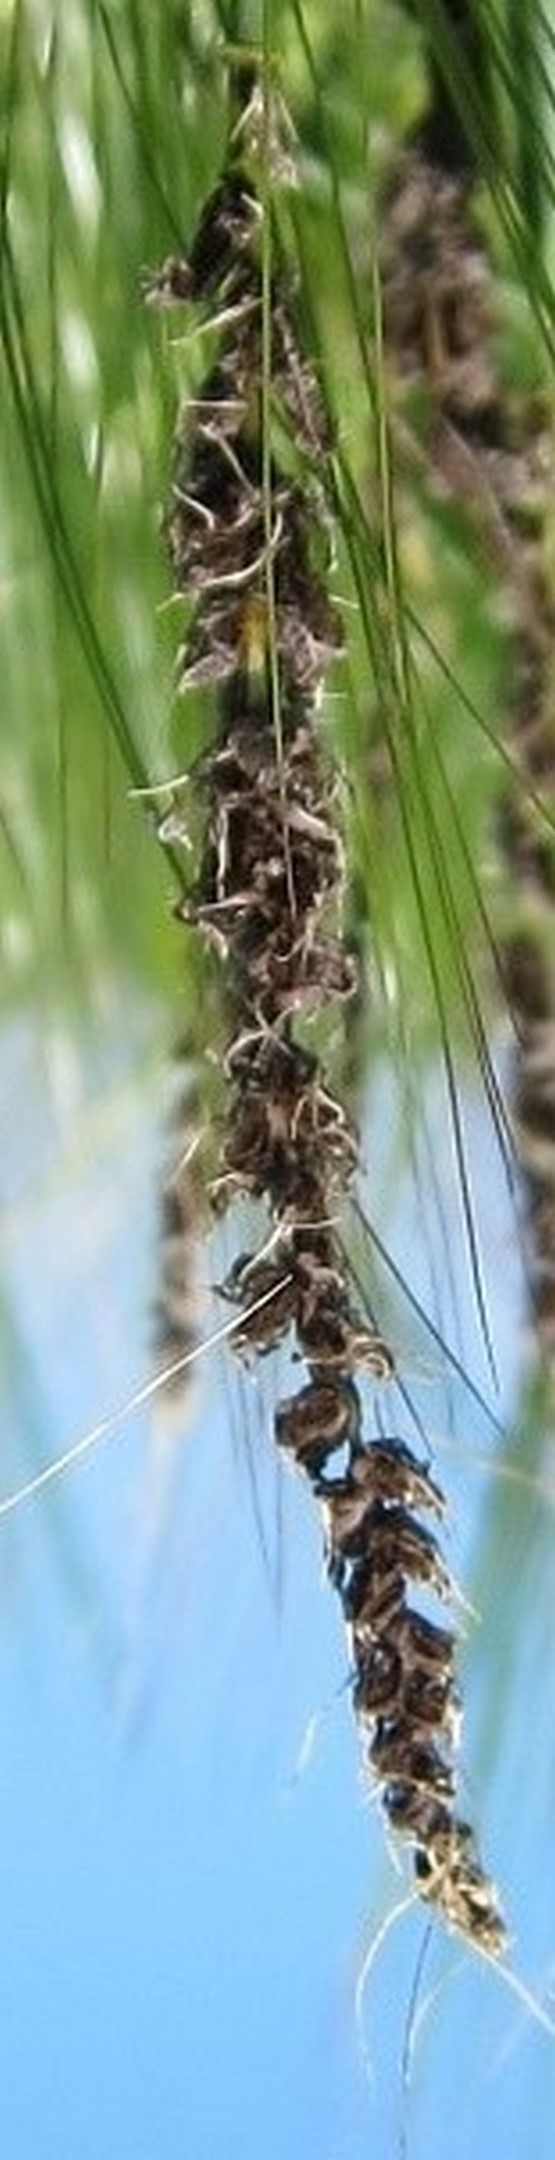Wheat Loose Smut: (150, 142, 536, 1975)
